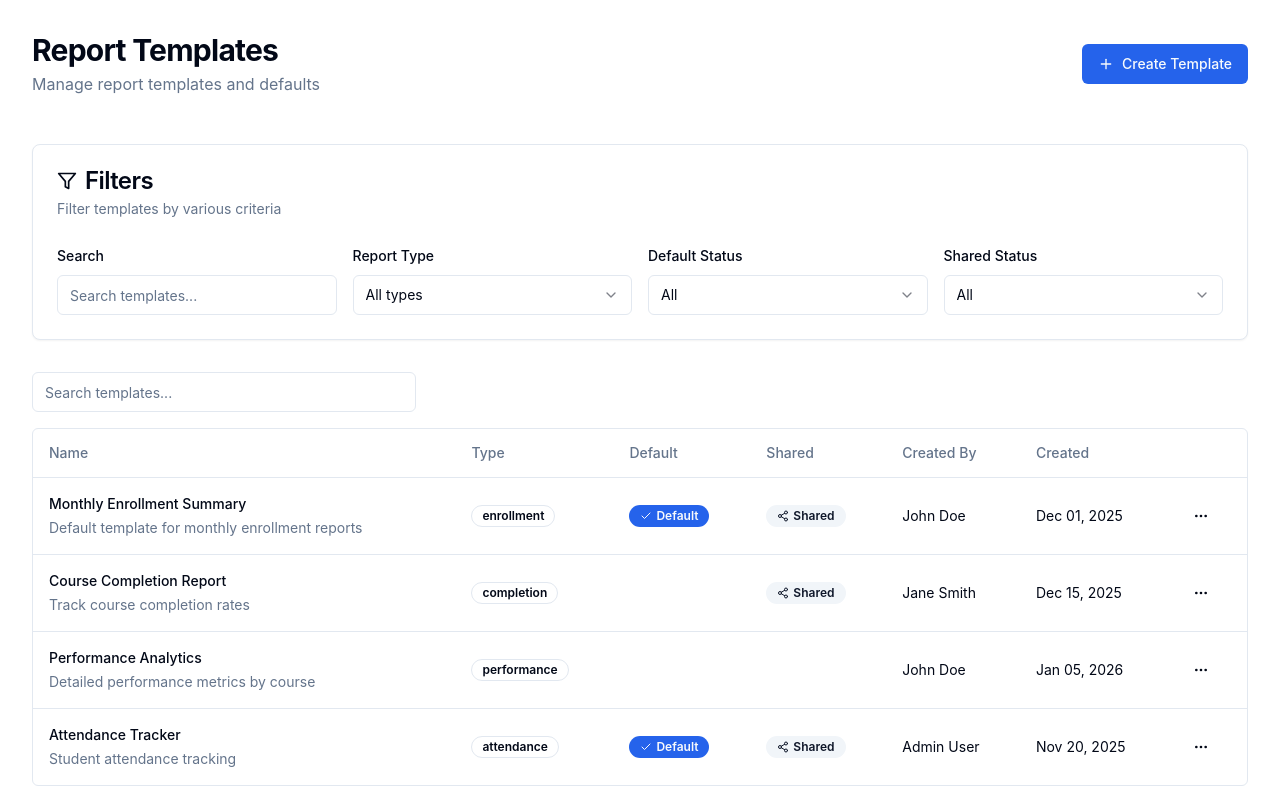
Scenario: ReportTemplatesPage › Create Template › should show validation errors for required fields
Click the button "Create Template".
click(1165, 64)  # box [1082,44,1248,84]
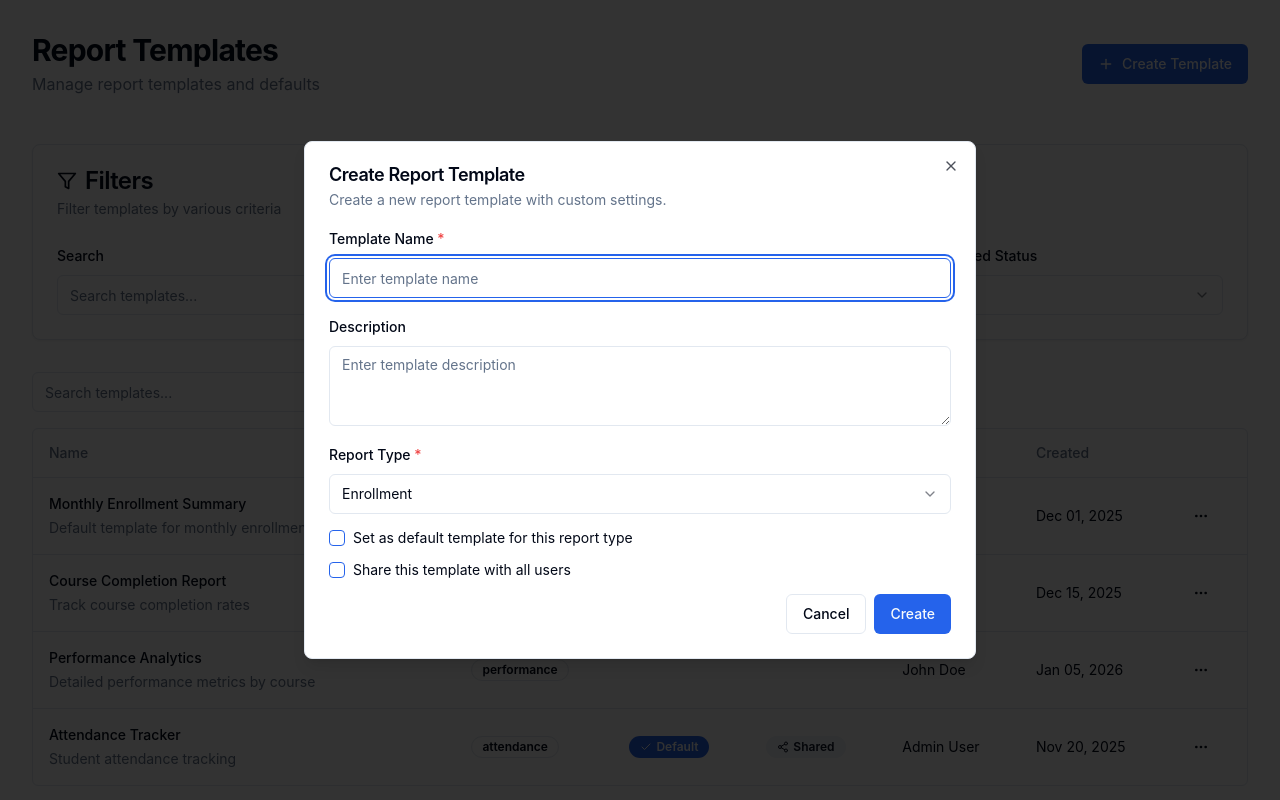
Click the button "Create".
click(913, 614)  # box [874,594,951,634]
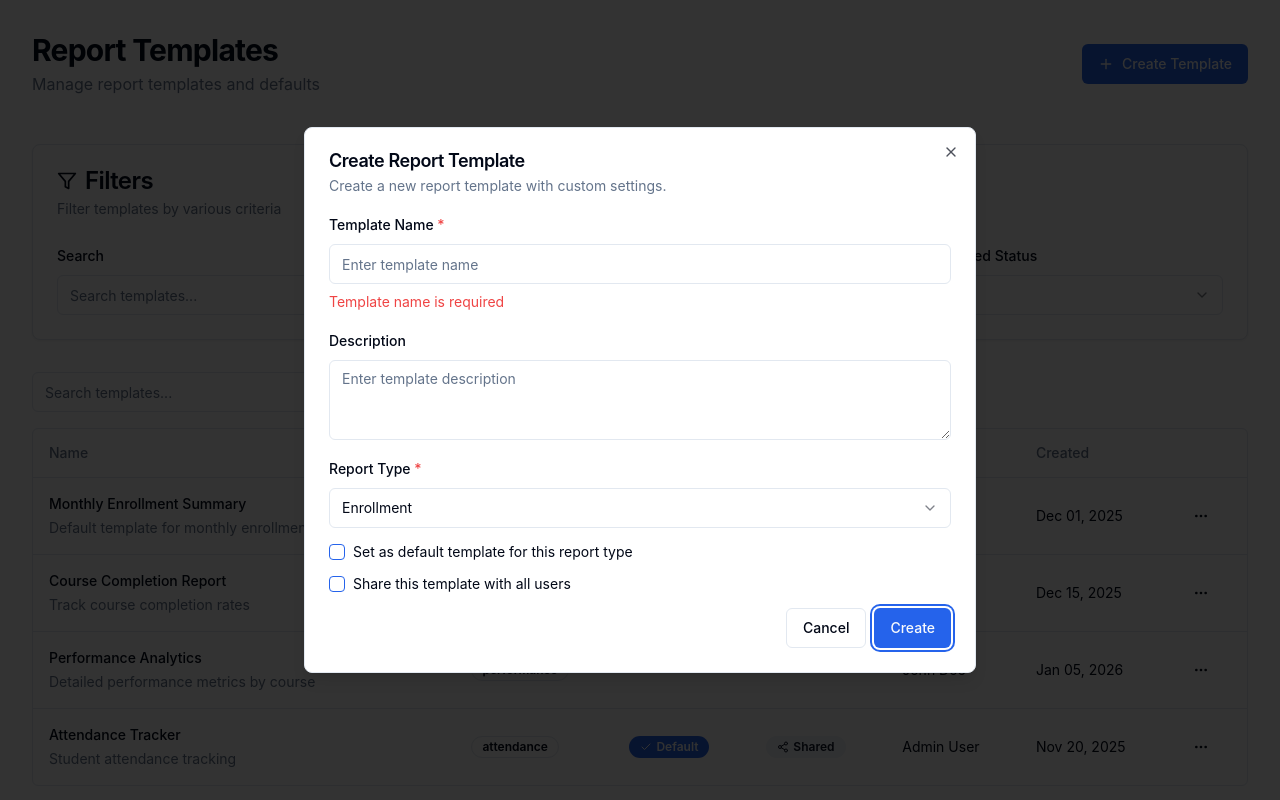
Now the text "Template name is required" is shown, box [329,293,504,310]
